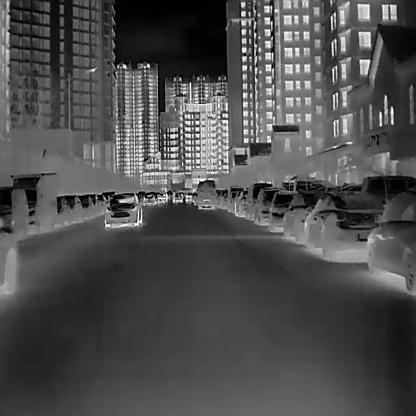car: (303, 192, 383, 258), (365, 188, 415, 293), (282, 192, 328, 240), (0, 185, 28, 240), (103, 192, 142, 226), (254, 187, 288, 226), (270, 191, 300, 232), (245, 184, 272, 218), (64, 194, 82, 223), (56, 195, 70, 223), (235, 190, 250, 215), (86, 192, 101, 214), (81, 195, 94, 219)
truck: (7, 171, 56, 234), (198, 179, 214, 211)
